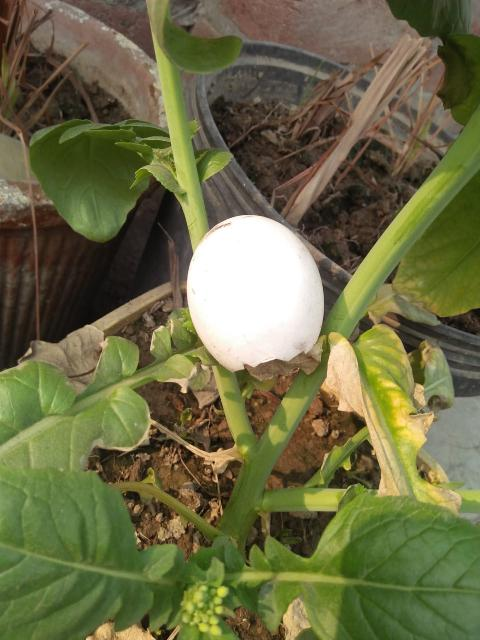Roto: (185, 213, 325, 373)
